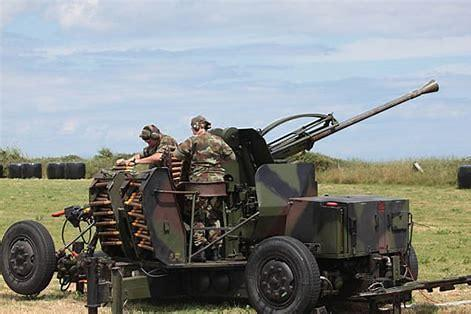MIL_SPG: (0, 81, 437, 313)
